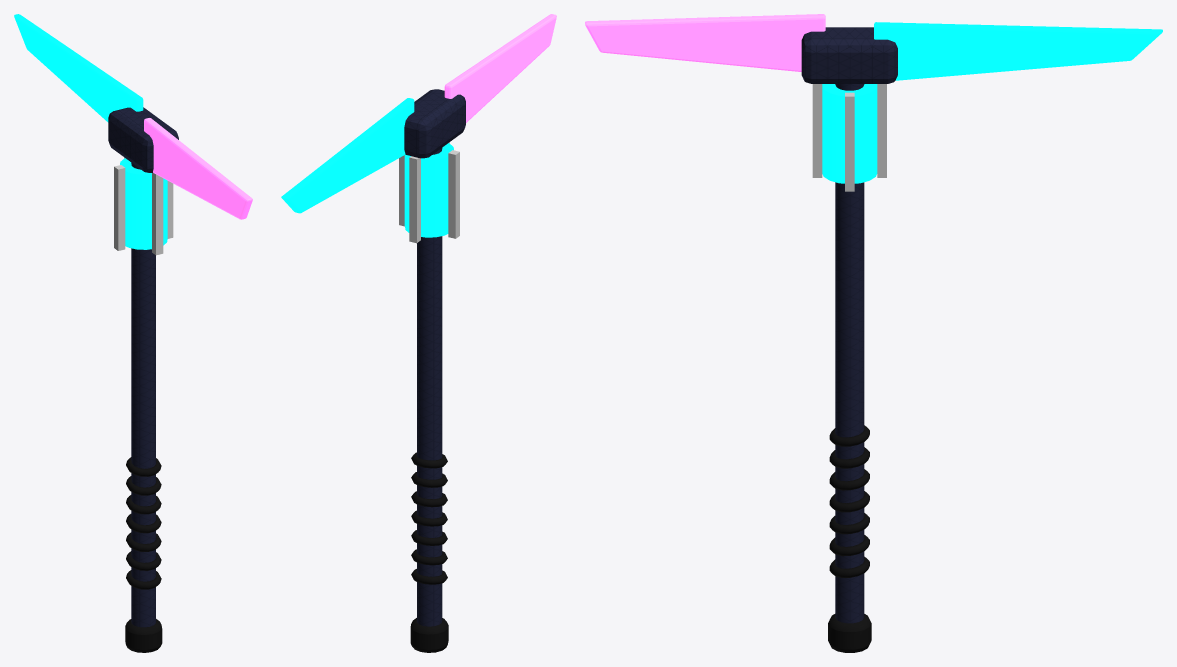
Rendered from pickaxe_circuit_splitter.glb.
3 views of the same model, side by side, from view 1: azimuth 30°, elevation 25°; view 2: azimuth 150°, elevation 25°; view 3: azimuth 270°, elevation 25° (orthographic). The views are drawn at different scales.
Parts seen in each view (by area): view 1: pickaxe_circuit_splitter; view 2: pickaxe_circuit_splitter; view 3: pickaxe_circuit_splitter.
Part boxes in pixels (bbox=[...]): pickaxe_circuit_splitter: bbox=[14, 14, 252, 652]; pickaxe_circuit_splitter: bbox=[281, 14, 556, 652]; pickaxe_circuit_splitter: bbox=[585, 14, 1162, 652].
Bounding box in the file's own units: 0.092 × 0.8599 × 0.7177.
5 materials, 2 textured.
